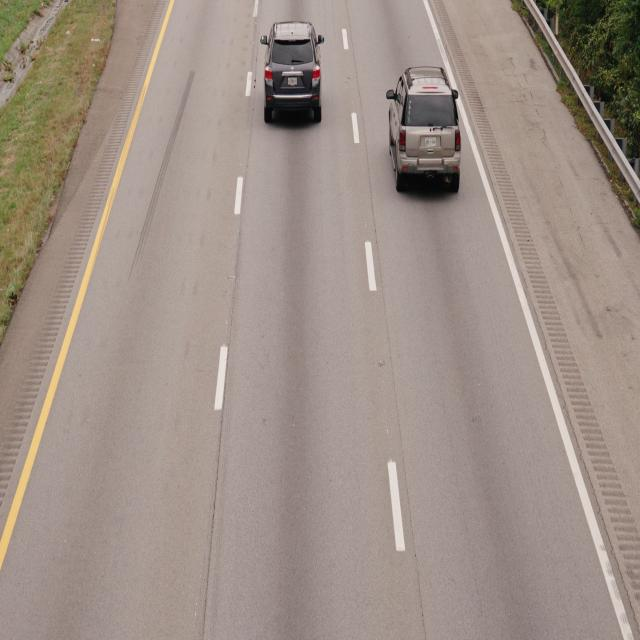Car: (387, 62, 463, 193), (260, 16, 328, 123)
